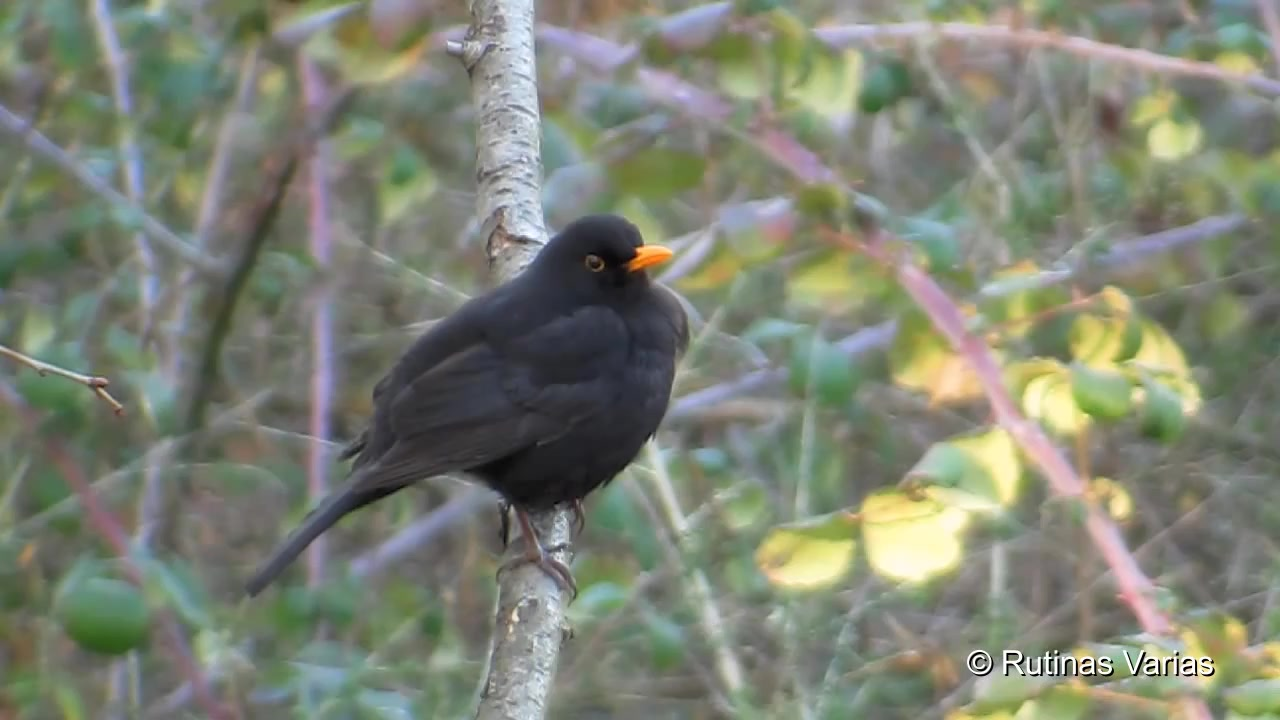bird: (244, 213, 692, 610)
